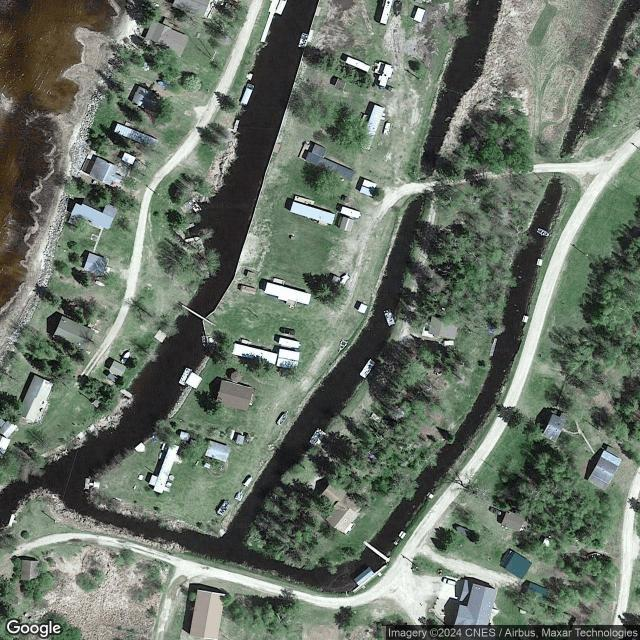Propane: (228, 428, 235, 441)
